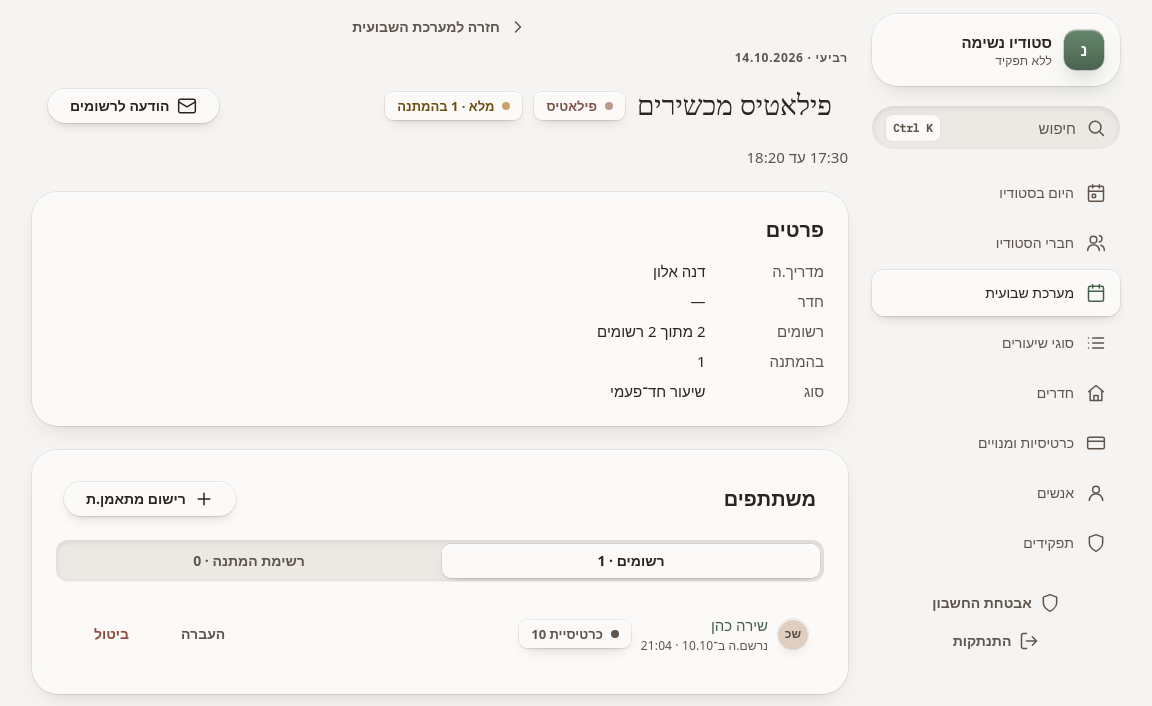
Test case: the roster › cancels a late booking and returns the entry when staff choose to
Click the button with aria-label "ביטול ההרשמה של שירה כהן".
click(112, 634)  # box [72,617,151,651]
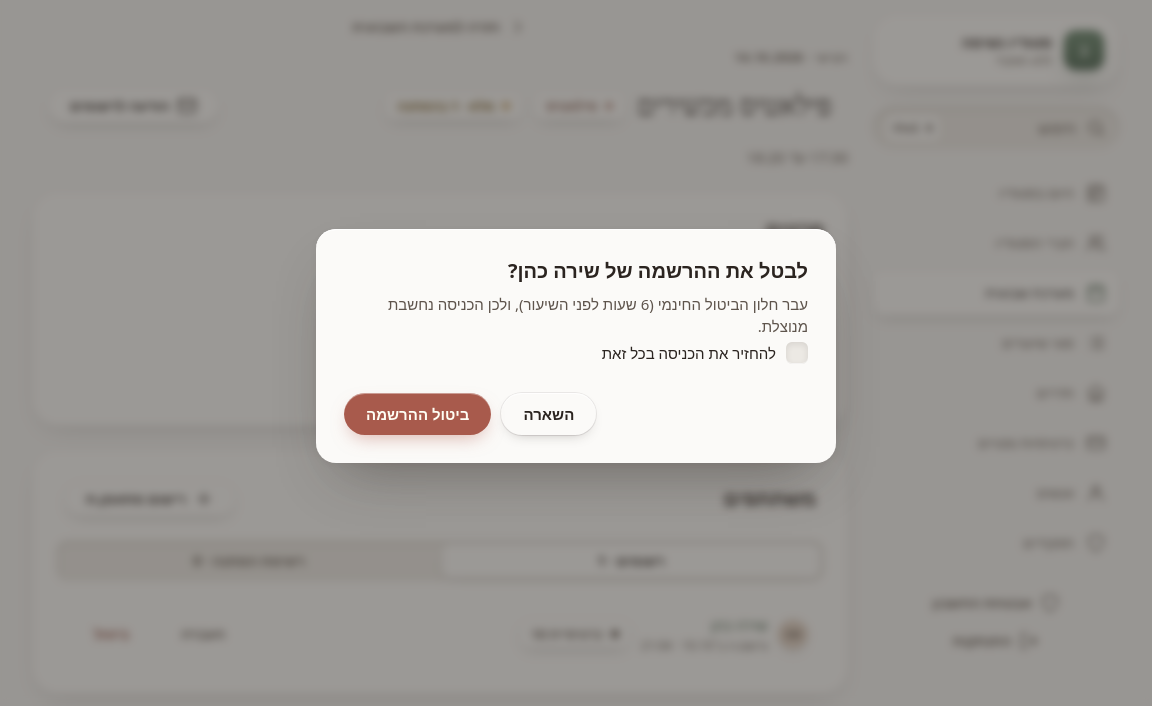
Now the text "עבר חלון הביטול החינמי (6 שעות לפני השיעור)" is shown, box [388,294,808,336]
Click the checkbox labelled "להחזיר את הכניסה בכל זאת".
click(797, 353)  # box [786,342,808,364]
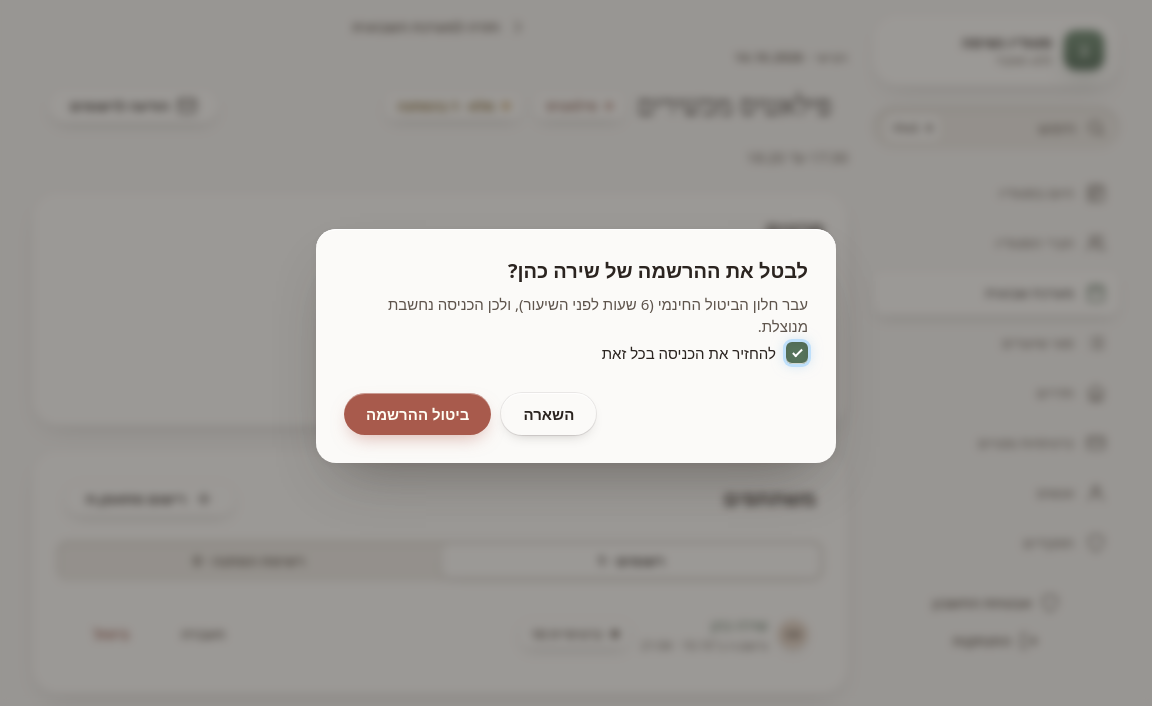
Click the button "ביטול ההרשמה".
click(418, 414)  # box [344,393,492,435]
(page scrolled)
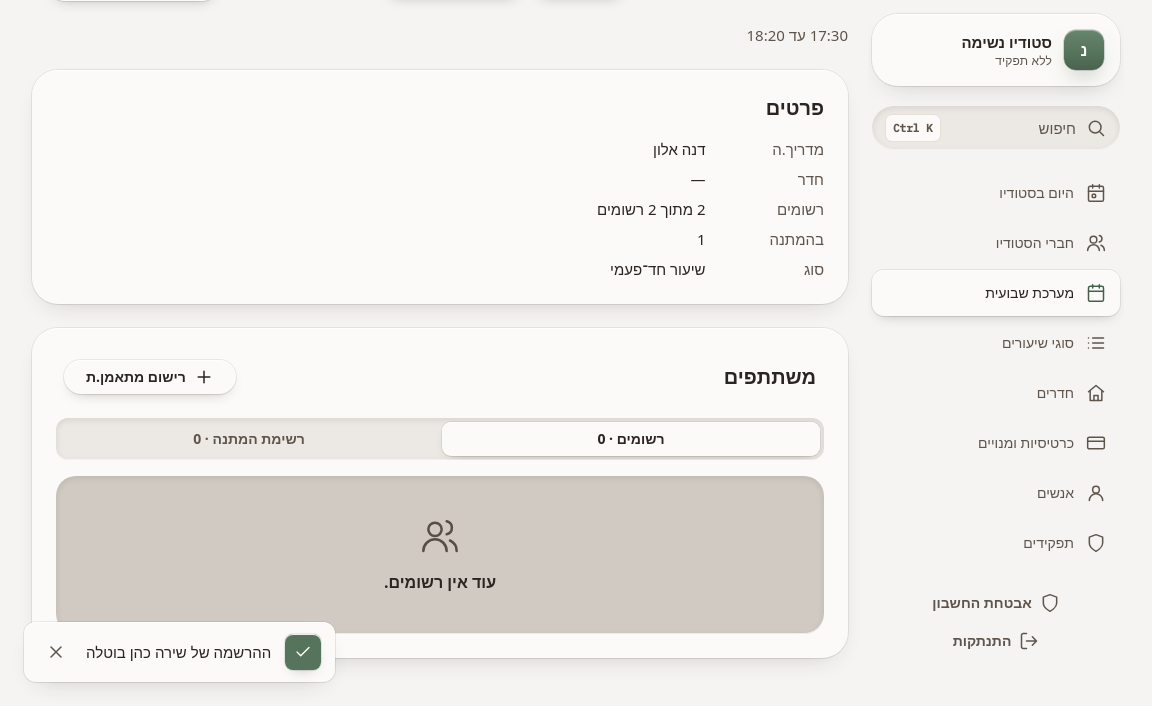
Now the text "ההרשמה של שירה כהן בוטלה" is shown, box [86,641,271,663]
Now the text "עוד אין רשומים." is shown, box [384,570,496,594]
